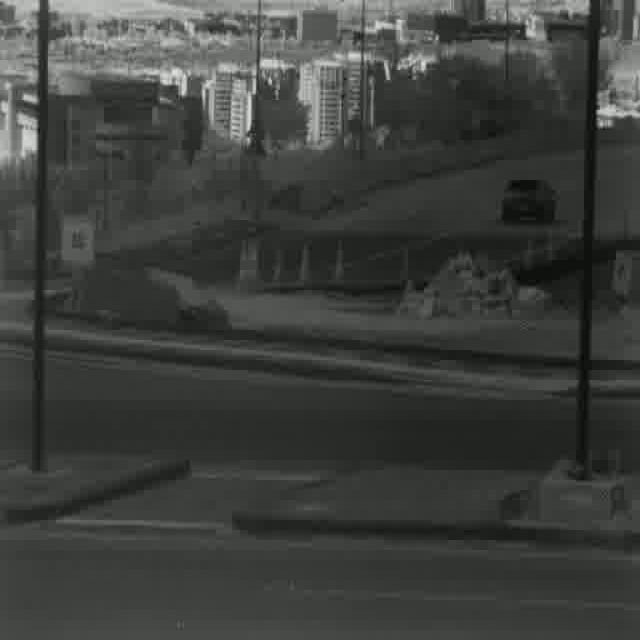Car: (498, 180, 556, 228)
